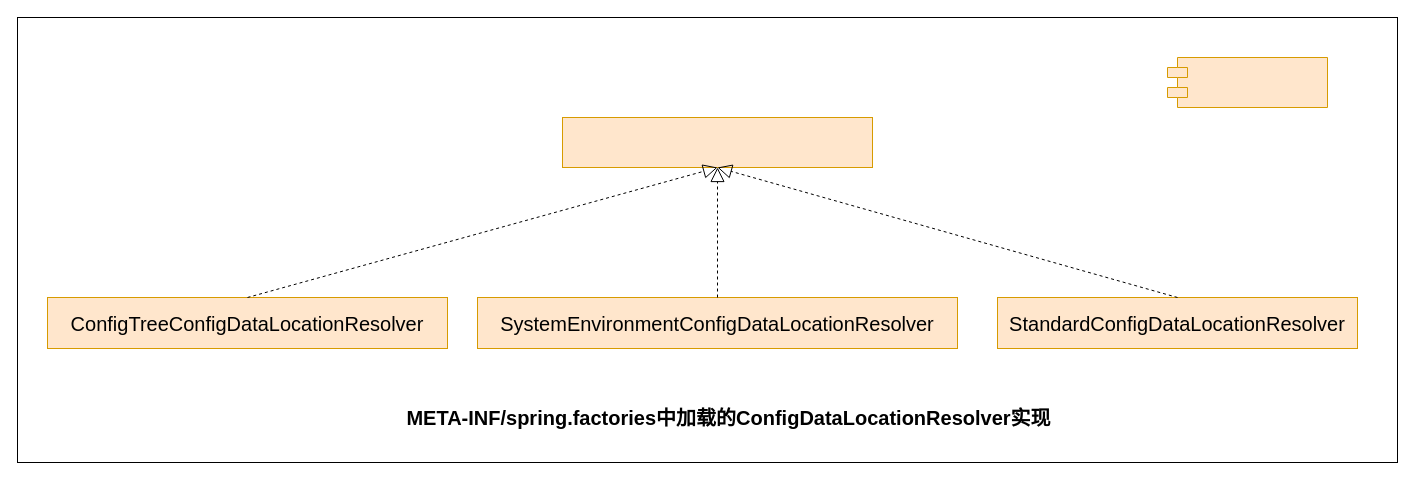
This 1415x480 diagram has some shape labels left out. Here are the shapes that lost their labels. From the top down, the box of each, then its label:
(1166, 56, 1328, 108): spring-boot
(562, 116, 872, 168): «interface» ConfigDataLocationResolver
